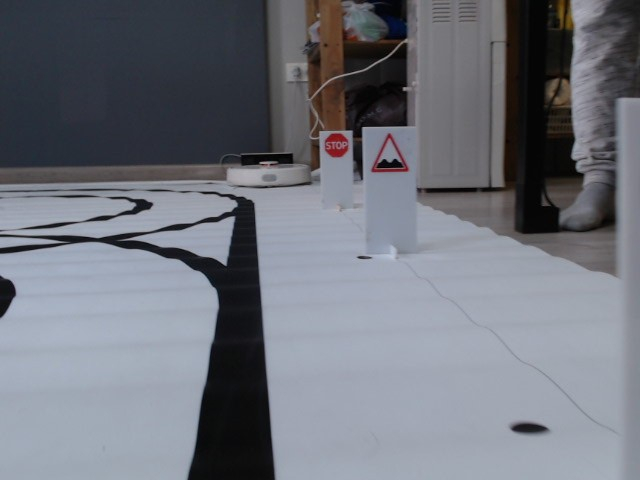Nerov: (369, 134, 410, 175)
Stop: (321, 132, 349, 159)
